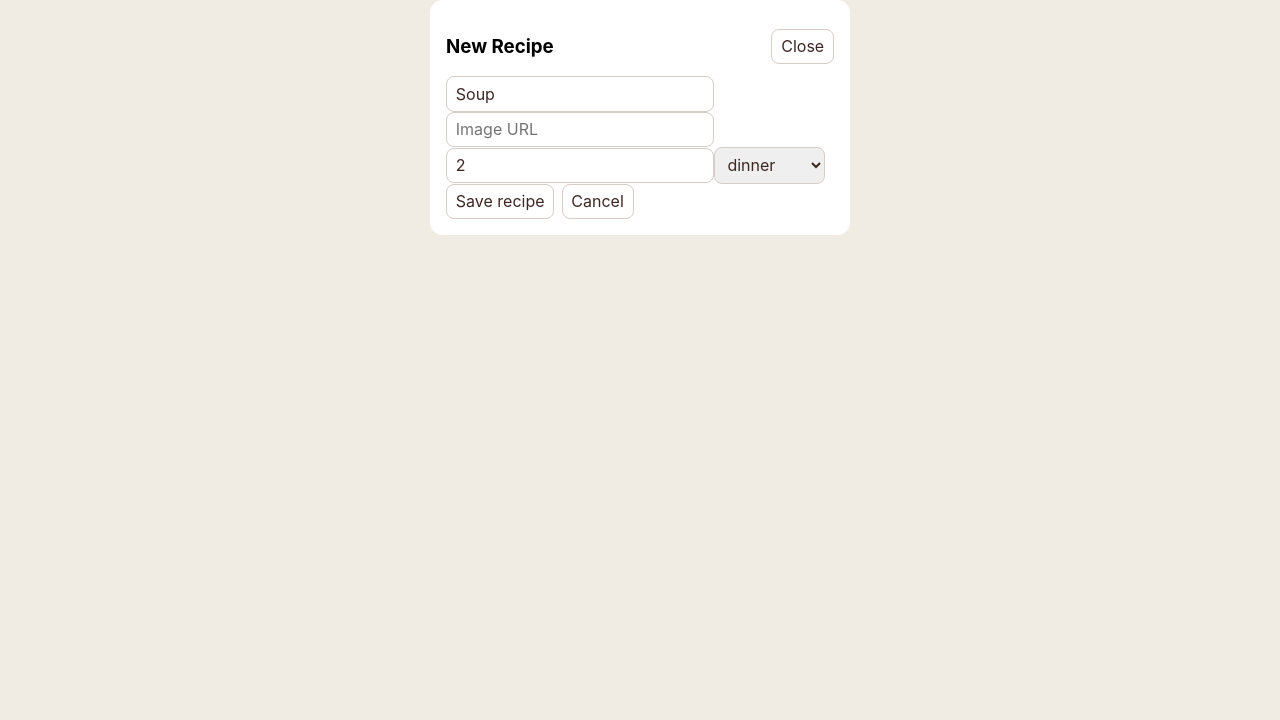
Test case: RecipeEditorModal › blocks save until the recipe has an image
The width and height of the screenshot is (1280, 720).
Click the button "Save recipe" at (500, 201), box [446, 184, 554, 219]
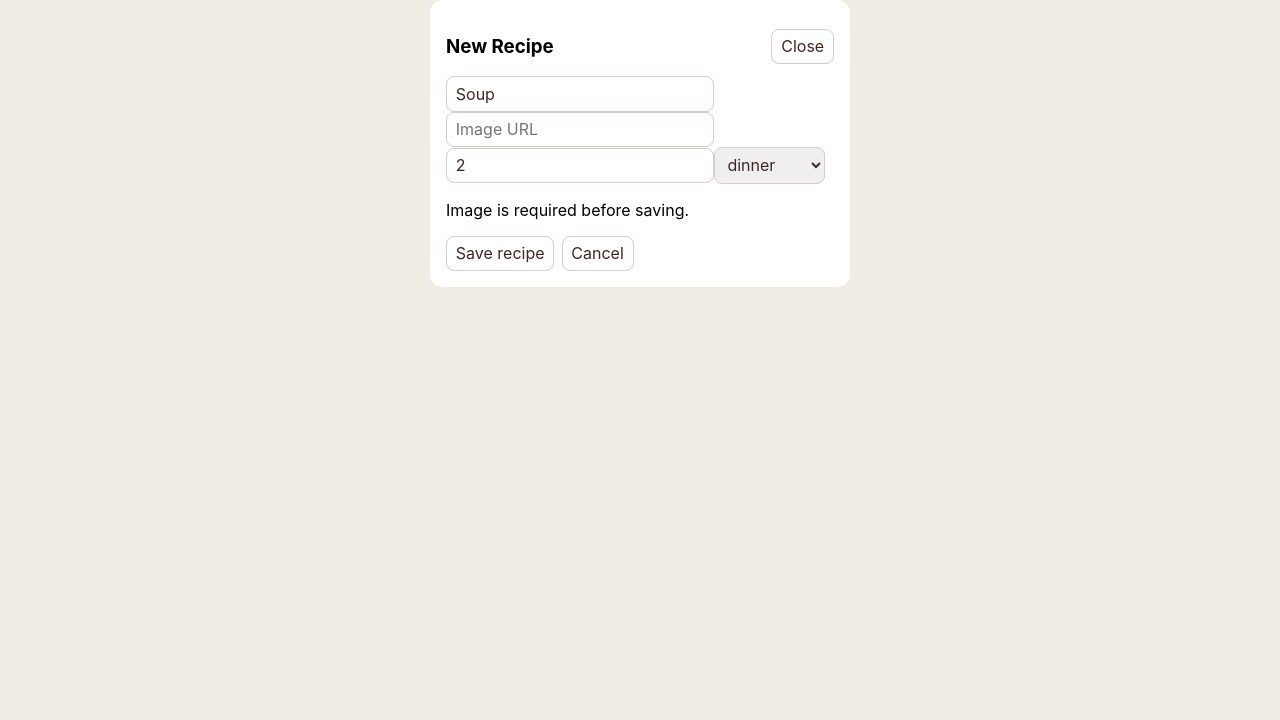
Result: the text "Image is required before saving." is shown at [446, 200, 689, 220]
